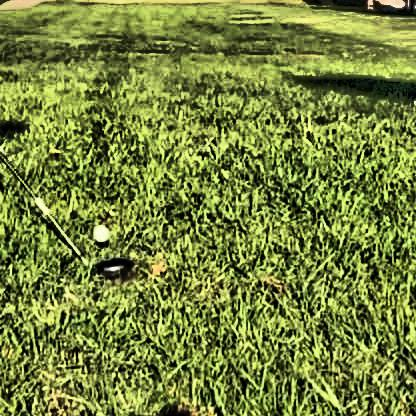golfball: (89, 220, 108, 241)
